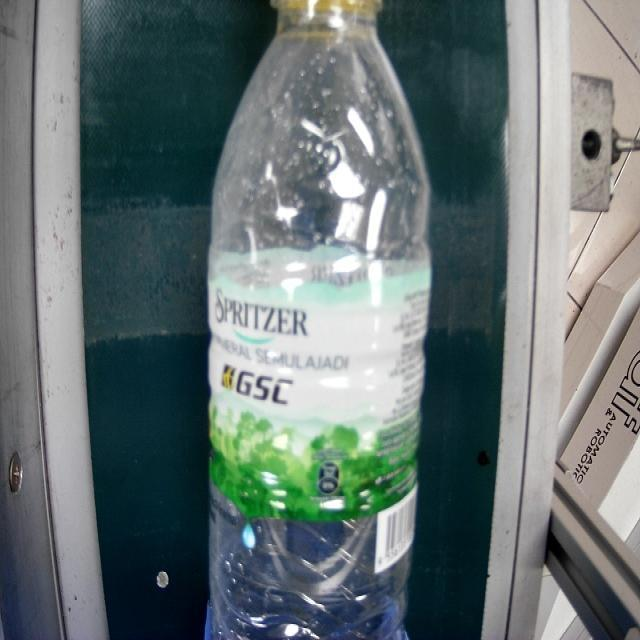Pet_Bottle: (204, 0, 425, 640)
